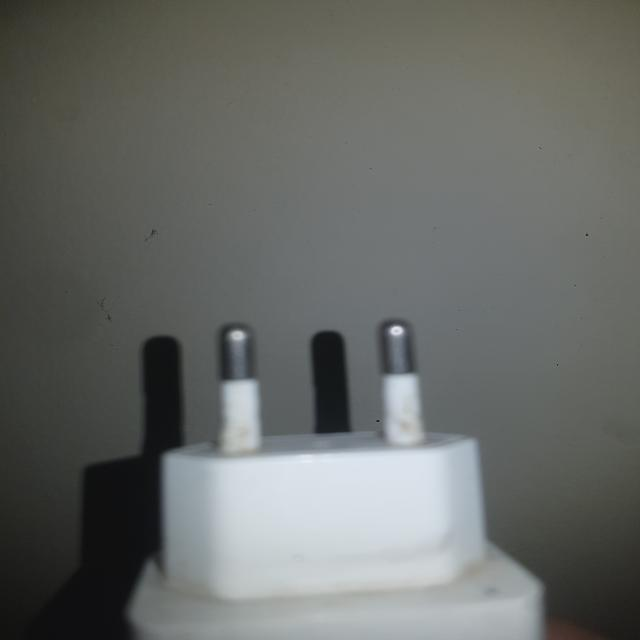elektronik: (100, 319, 564, 640), (130, 320, 543, 640)
